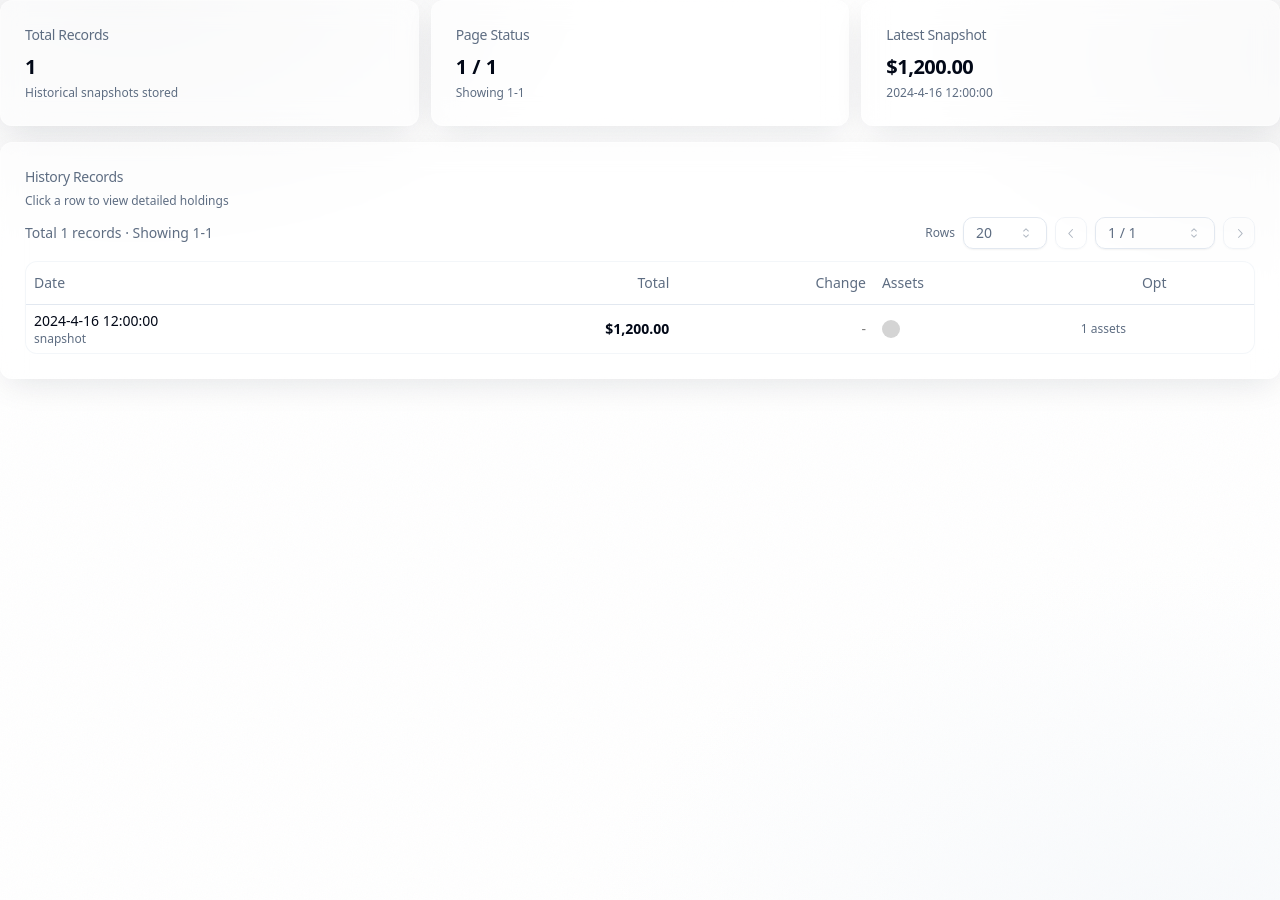
Test: Historical Data page › shows a stock badge in historical data detail rows
Click the text "snapshot".
click(60, 338)  # box left=34, top=330, right=86, bottom=346
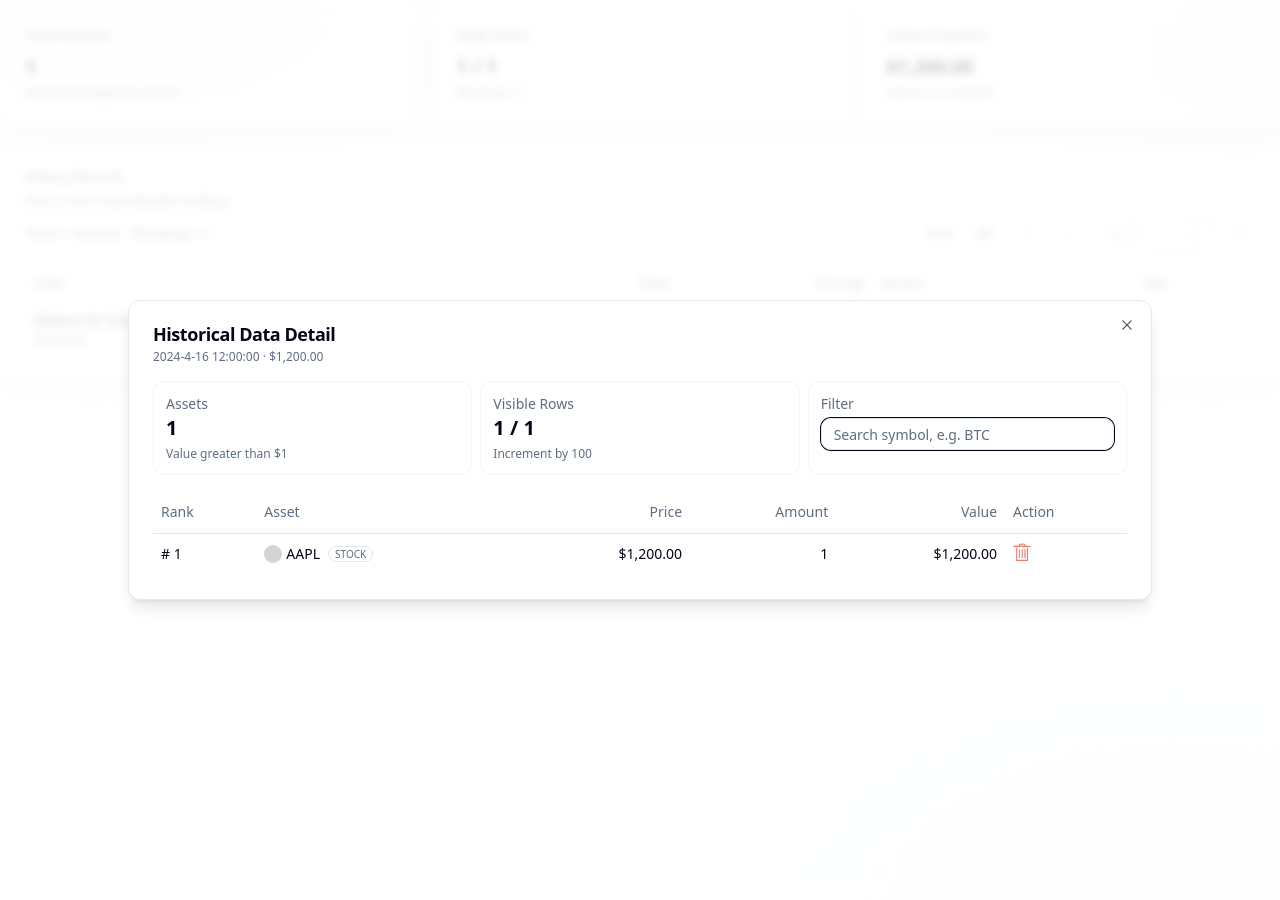
Expected: the text "AAPL" is shown, left=286, top=544, right=320, bottom=564
Expected: the text "stock" is shown, left=328, top=546, right=373, bottom=562
